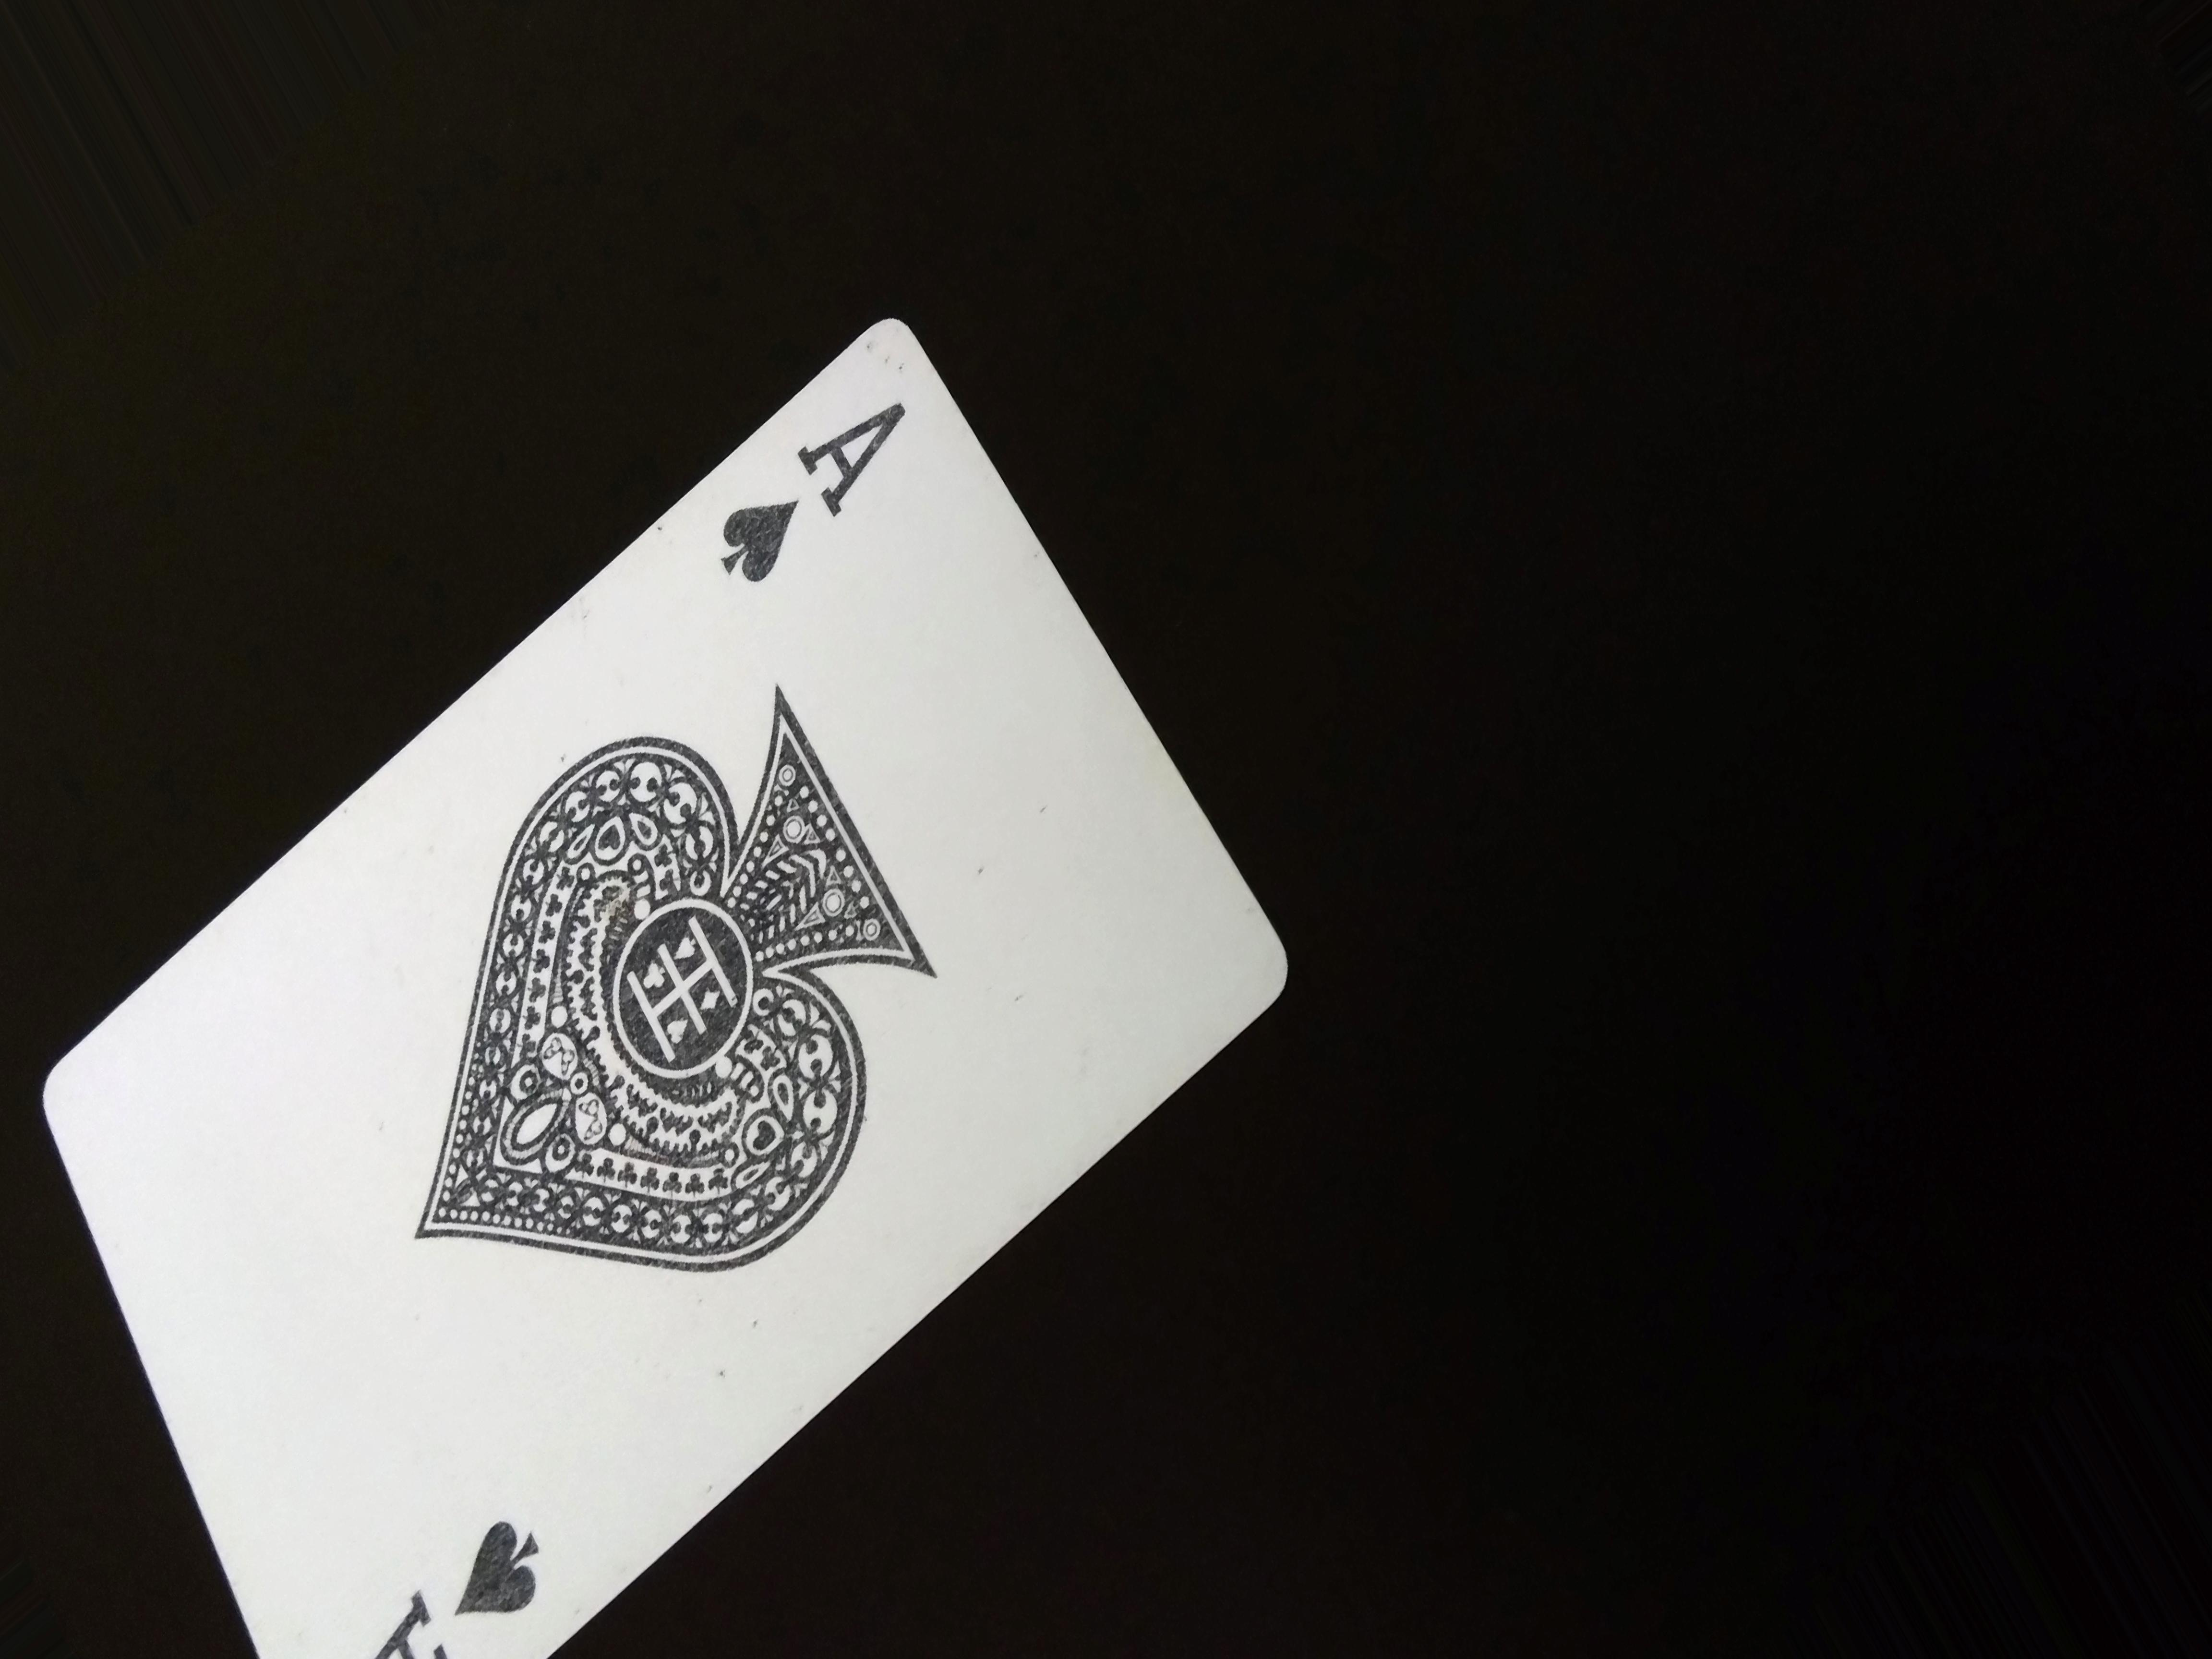AS: (707, 390, 920, 605)
